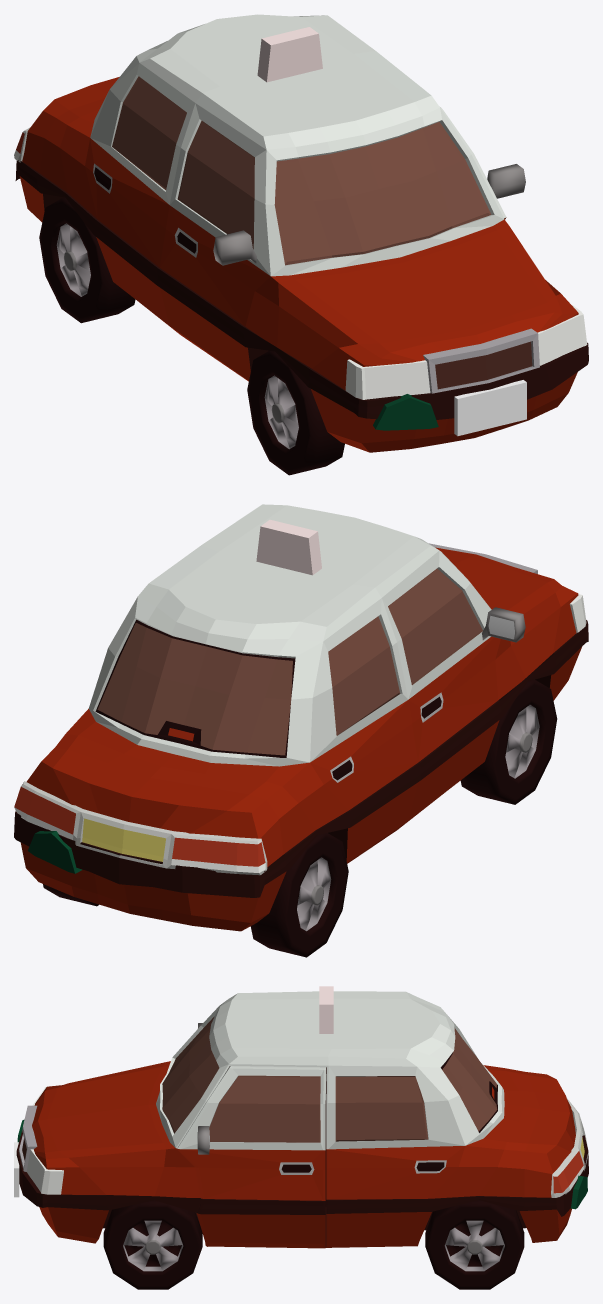
Rendered from taxi.glb.
3 views of the same model, one above another, from view 1: azimuth 30°, elevation 25°; view 2: azimuth 150°, elevation 25°; view 3: azimuth 270°, elevation 25° (orthographic). The views are drawn at different scales.
Parts seen in each view (by area): view 1: Taxibody; view 2: Taxibody; view 3: Taxibody.
Boxes of the visible parts, x1,y1,x2,y2 form: Taxibody: (14, 14, 588, 475); Taxibody: (14, 504, 588, 957); Taxibody: (14, 986, 588, 1289).
Size of the model in its own units: 2.71 by 2.72 by 5.73.
1 material, 1 textured.
